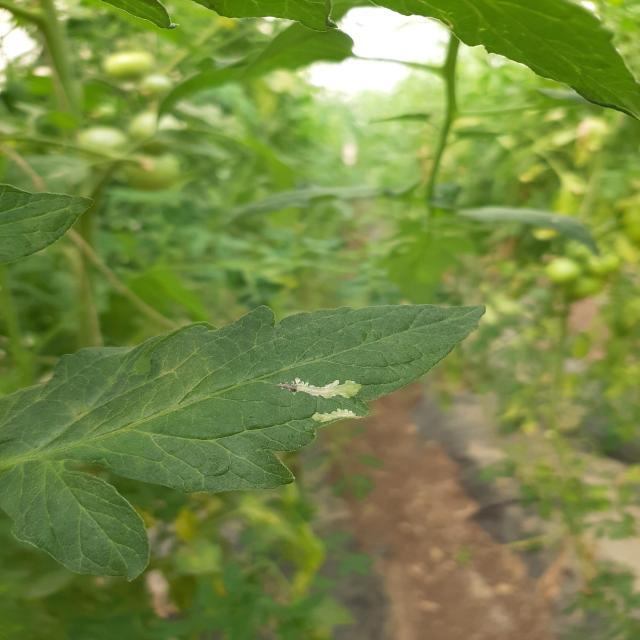Tuta absoluta: (276, 377, 361, 400), (311, 407, 358, 424)
